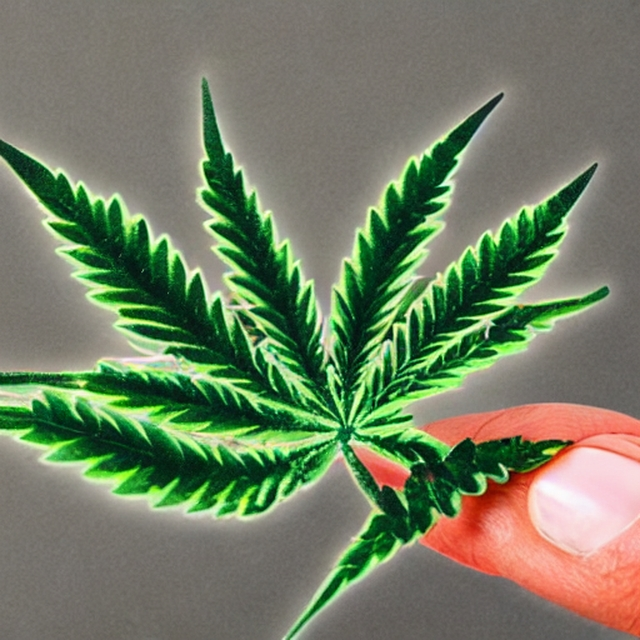Marijuana Leaf: (0, 73, 612, 639)
